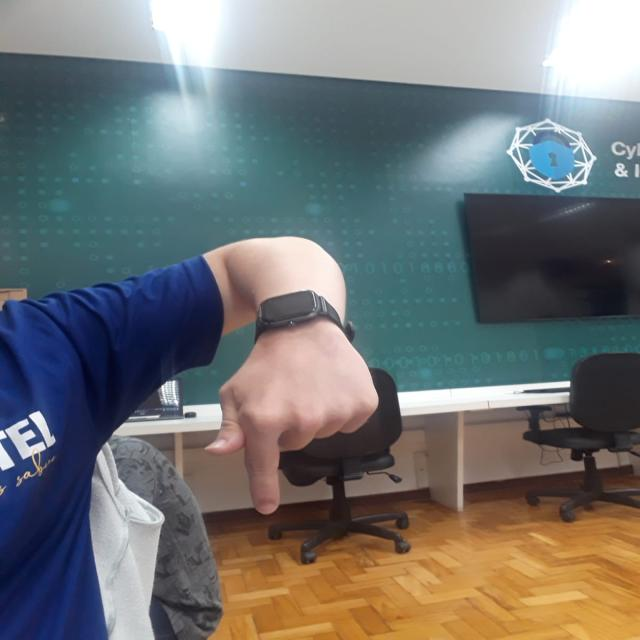Q: (194, 327, 382, 521)
